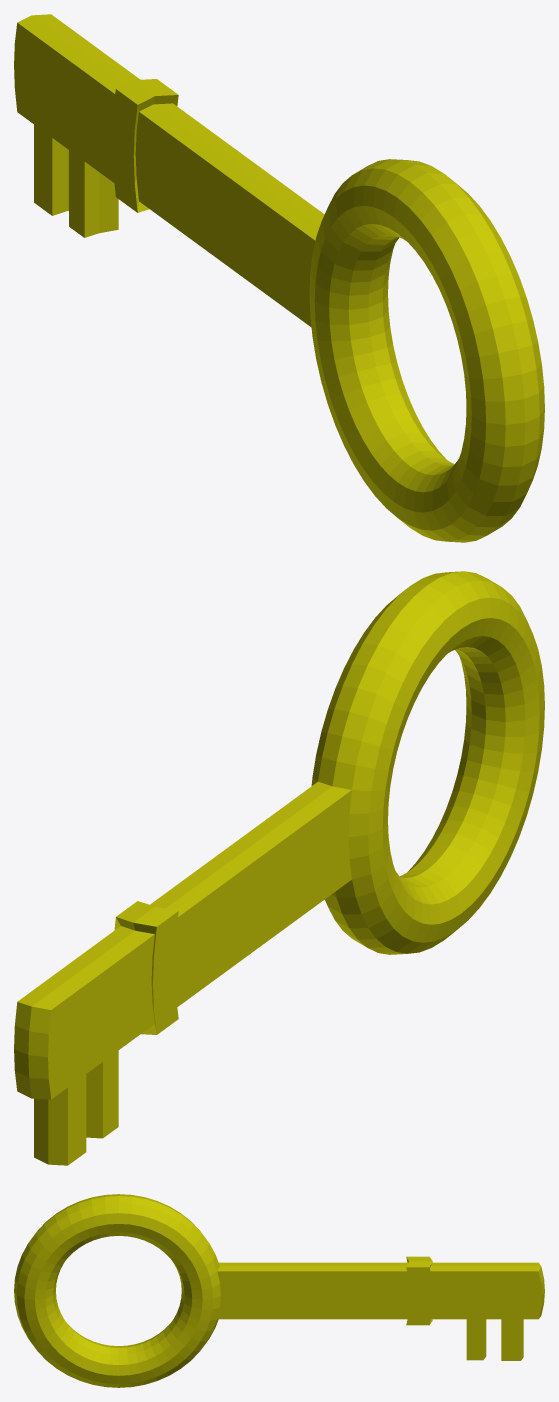
The model's file is key.glb.
3 renders of one model, top to bottom at view 1: azimuth 30°, elevation 25°; view 2: azimuth 150°, elevation 25°; view 3: azimuth 270°, elevation 25°, orthographic. The views are drawn at different scales.
Visible parts, largest first — view 1: Torus; view 2: Torus; view 3: Torus.
Part boxes in pixels (bbox=[...]): Torus: bbox=[14, 14, 544, 542]; Torus: bbox=[14, 571, 544, 1165]; Torus: bbox=[14, 1194, 544, 1387].
Bounding box in the file's own units: 0.15 × 0.75 × 1.9.
